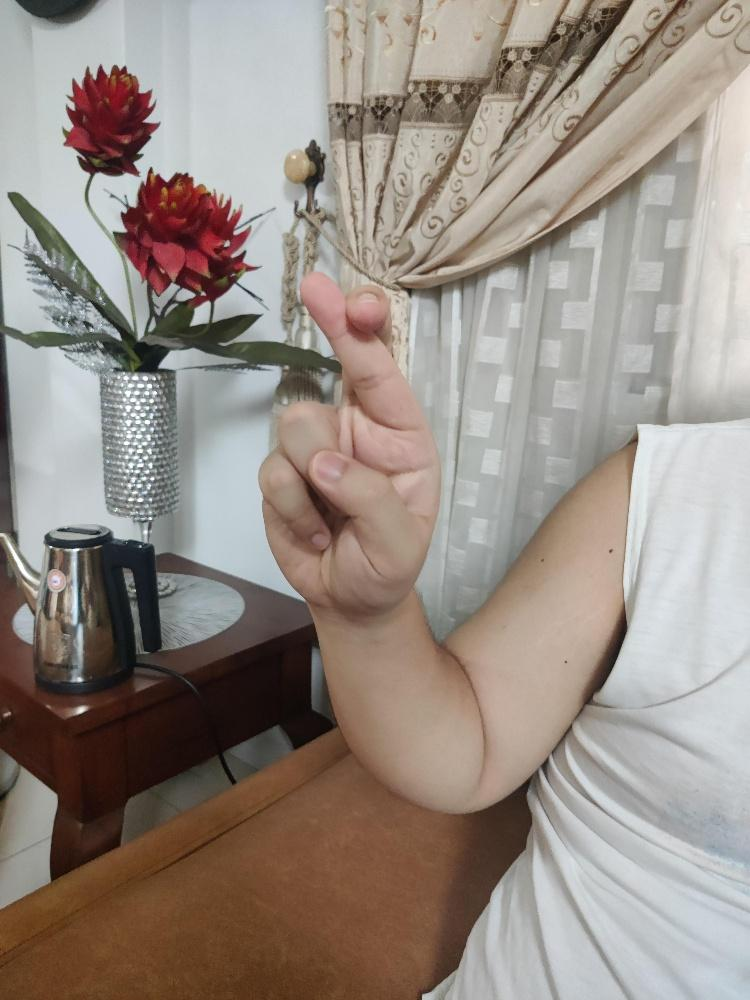r: (256, 266, 444, 615)
